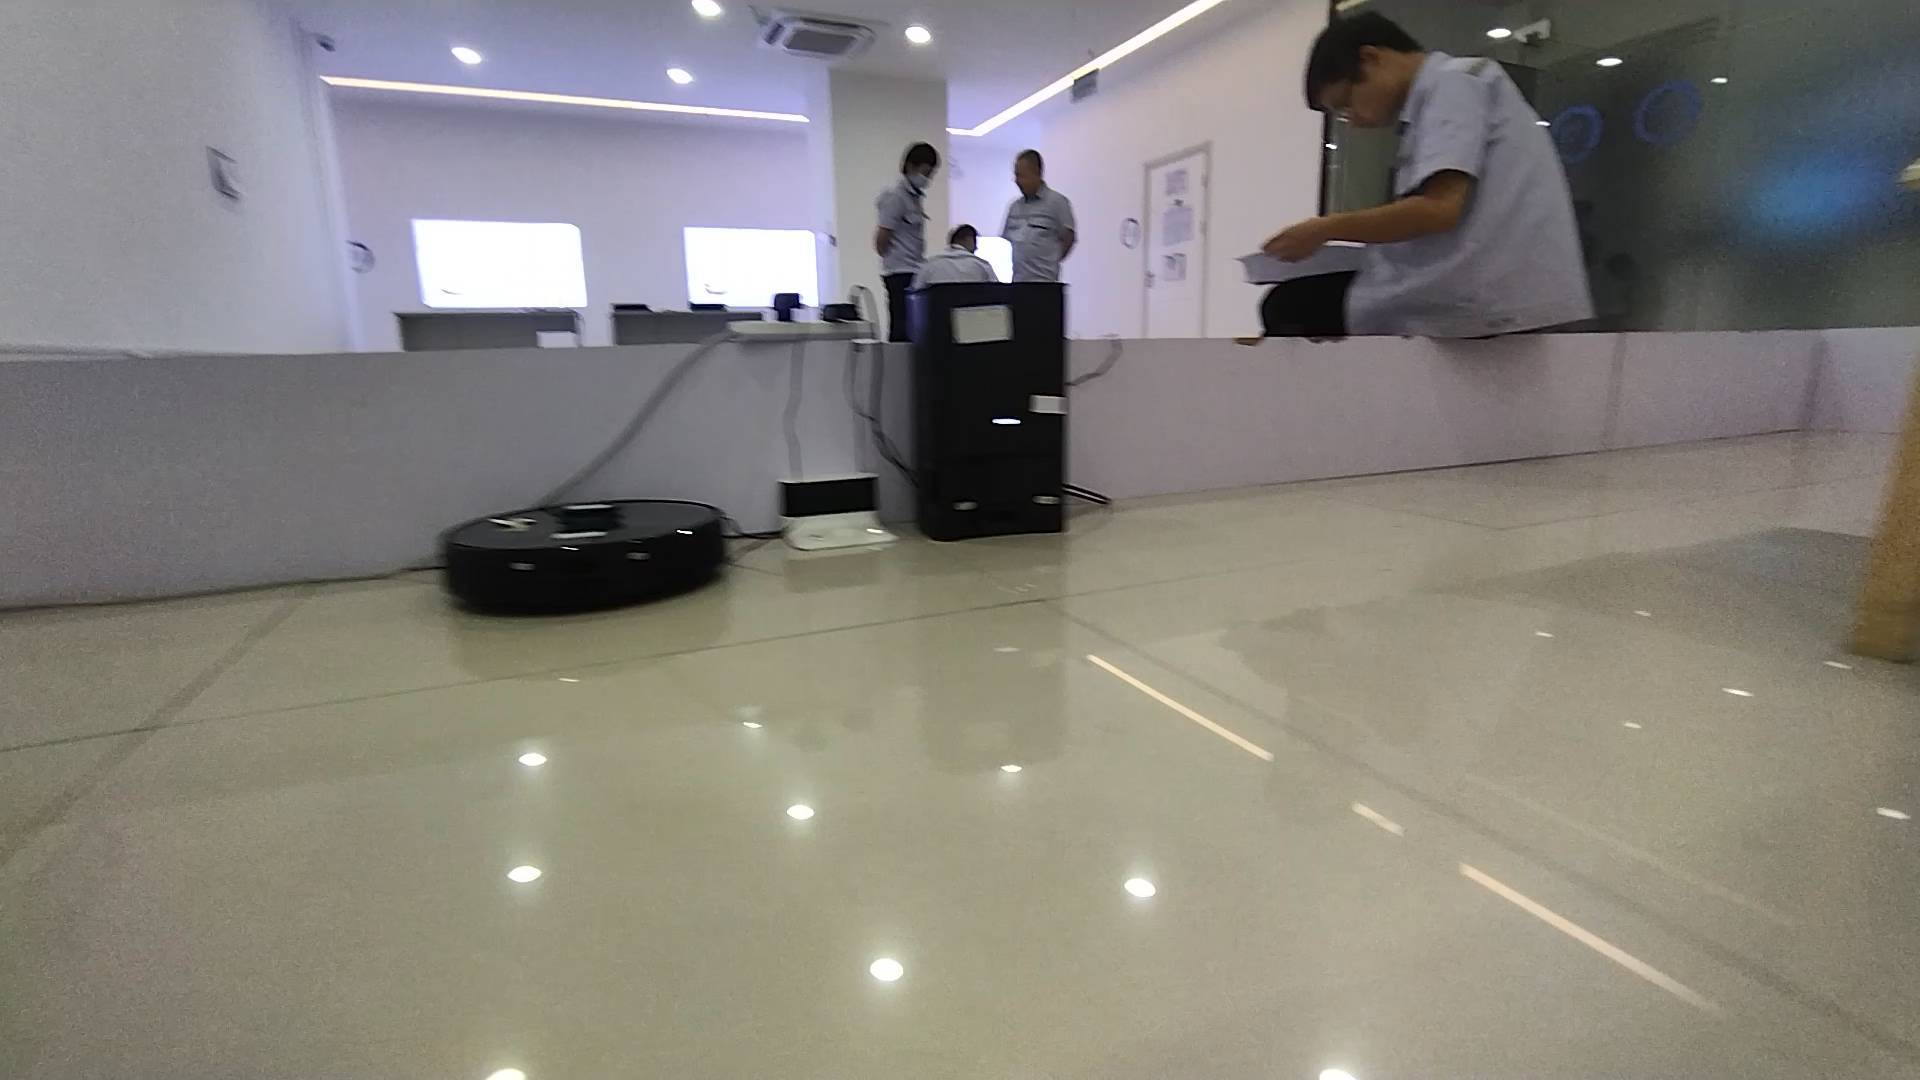dust collecting barrel: (907, 282, 1065, 542)
recharge seat: (778, 476, 906, 550)
